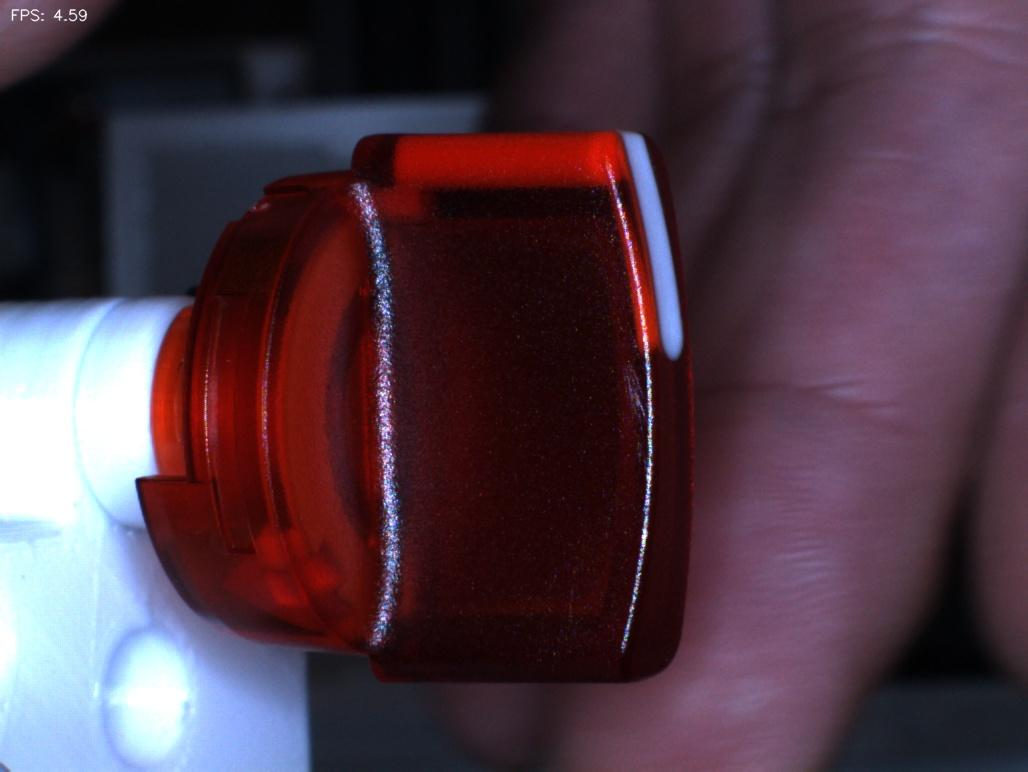Givrage: (602, 336, 666, 470)
